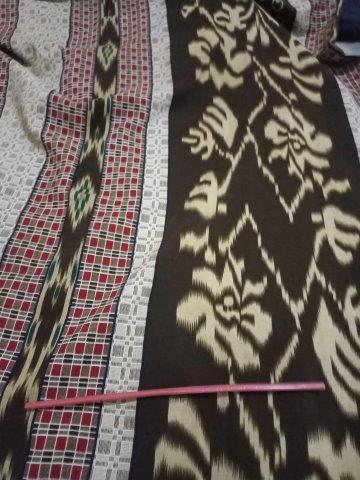sedotan: (24, 382, 325, 410)
